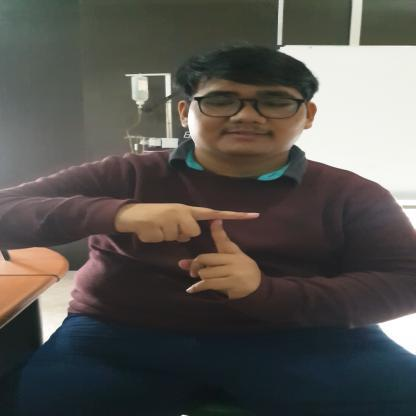T: (124, 200, 264, 297)
